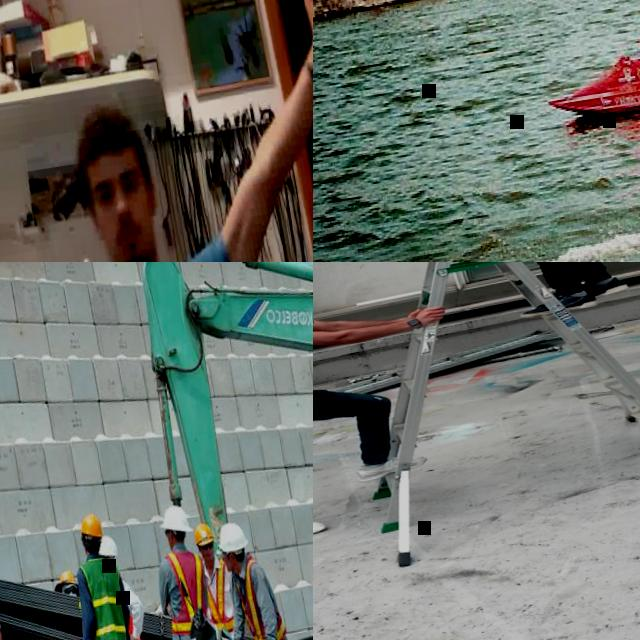Hardhat: (159, 502, 192, 535), (216, 520, 248, 552), (192, 522, 215, 548), (78, 514, 102, 538), (96, 536, 117, 560), (54, 570, 77, 590)
NO-Hardhat: (70, 104, 138, 170)
NO-Mask: (105, 217, 155, 262), (224, 558, 238, 572), (204, 548, 216, 562), (166, 539, 175, 549)
Person: (0, 0, 313, 262), (313, 262, 477, 546), (342, 262, 634, 342), (144, 499, 237, 640), (58, 509, 157, 640), (214, 516, 313, 640), (192, 517, 262, 640), (92, 533, 169, 640), (47, 566, 108, 640)
Safety Vest: (231, 550, 291, 640), (158, 546, 214, 636), (78, 553, 131, 640), (197, 552, 239, 634), (52, 591, 92, 640), (119, 609, 147, 640)
vehicle: (126, 262, 313, 640)
